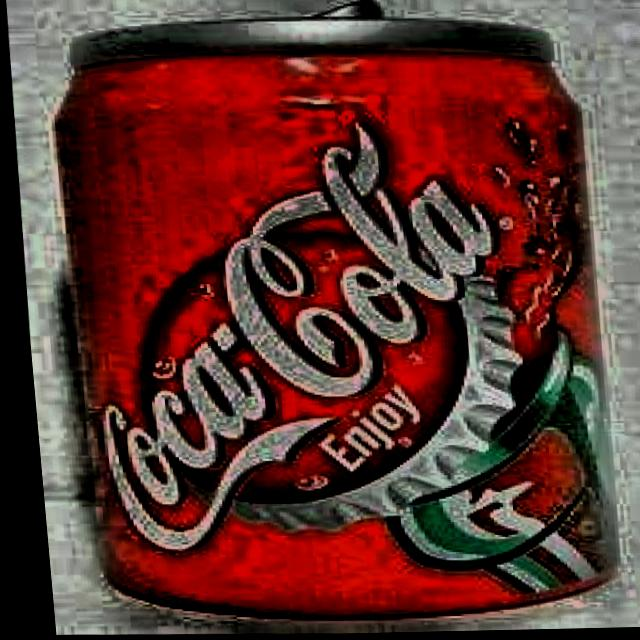Cans: (39, 0, 640, 637)
